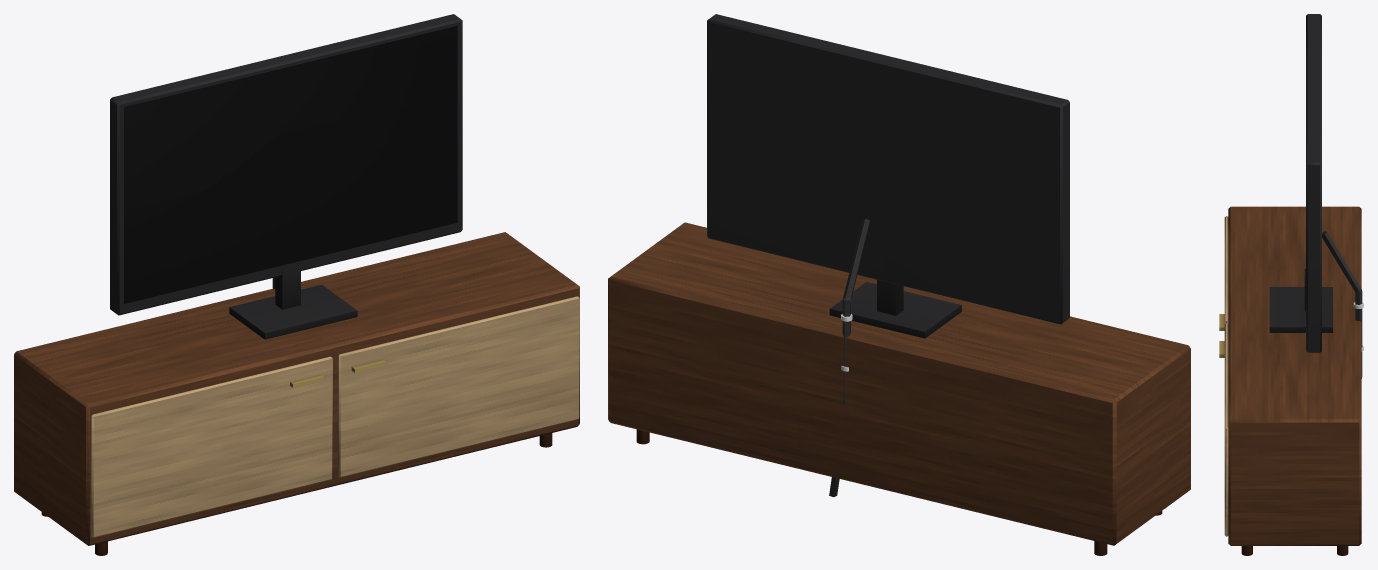
File: tv_console.glb
The picture shows the model from 3 angles, left to right: view 1: azimuth 30°, elevation 25°; view 2: azimuth 150°, elevation 25°; view 3: azimuth 270°, elevation 25°; orthographic projection. The views are drawn at different scales.
Visible parts, largest first — view 1: body, panels; view 2: body; view 3: body.
Part boxes in pixels (box(x1,y1,x2,y2)): body: box(14, 14, 579, 555); panels: box(124, 25, 457, 303); body: box(608, 14, 1190, 555); body: box(1219, 14, 1363, 555).
Size of what is drawn, in the model's own units: 1.6 by 1.28 by 0.454.
8 materials, 4 textured.
